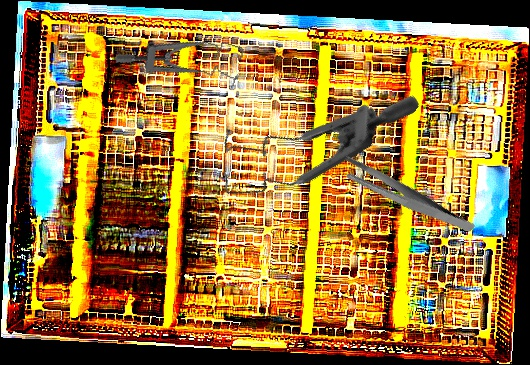Dressing Forceps: (336, 130, 476, 263)
Speculum: (196, 19, 422, 254), (114, 13, 247, 99)
